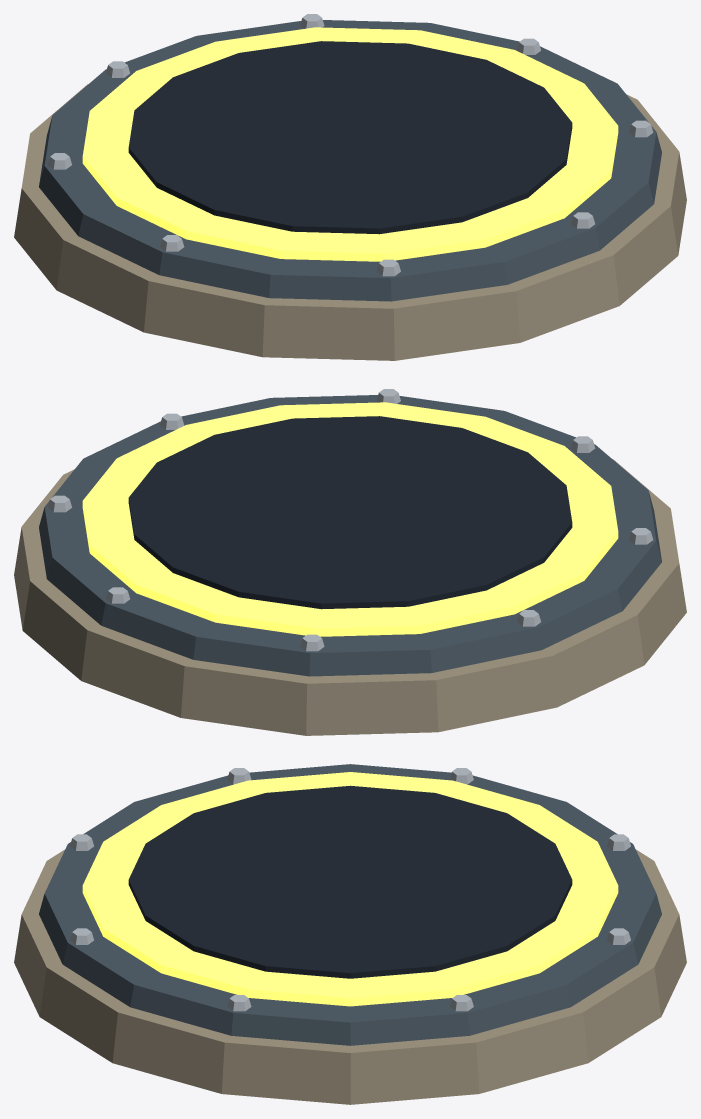
The model's file is Terminal_FloorBeacon.fbx.
The picture shows the model from 3 angles, top to bottom: view 1: azimuth 30°, elevation 25°; view 2: azimuth 150°, elevation 25°; view 3: azimuth 270°, elevation 25°; orthographic projection.
Visible parts, largest first — view 1: Face, ConcreteDark, Frame, Ring, SteelLight; view 2: Face, ConcreteDark, Frame, Ring, SteelLight; view 3: Face, ConcreteDark, Frame, Ring, SteelLight.
Boxes of the visible parts, bbox=[...] form: Face: bbox=[128, 41, 572, 234]; ConcreteDark: bbox=[14, 84, 686, 360]; Frame: bbox=[39, 20, 661, 301]; Ring: bbox=[82, 27, 618, 261]; SteelLight: bbox=[47, 14, 653, 276]; Face: bbox=[128, 416, 572, 609]; ConcreteDark: bbox=[14, 459, 686, 735]; Frame: bbox=[39, 395, 661, 676]; Ring: bbox=[82, 402, 618, 636]; SteelLight: bbox=[47, 389, 653, 651]; Face: bbox=[128, 785, 572, 978]; ConcreteDark: bbox=[14, 849, 686, 1104]; Frame: bbox=[39, 764, 661, 1045]; Ring: bbox=[82, 772, 618, 1006]; SteelLight: bbox=[70, 768, 630, 1011].
Bounding box in the file's own units: 4.4 × 0.6 × 4.4.
